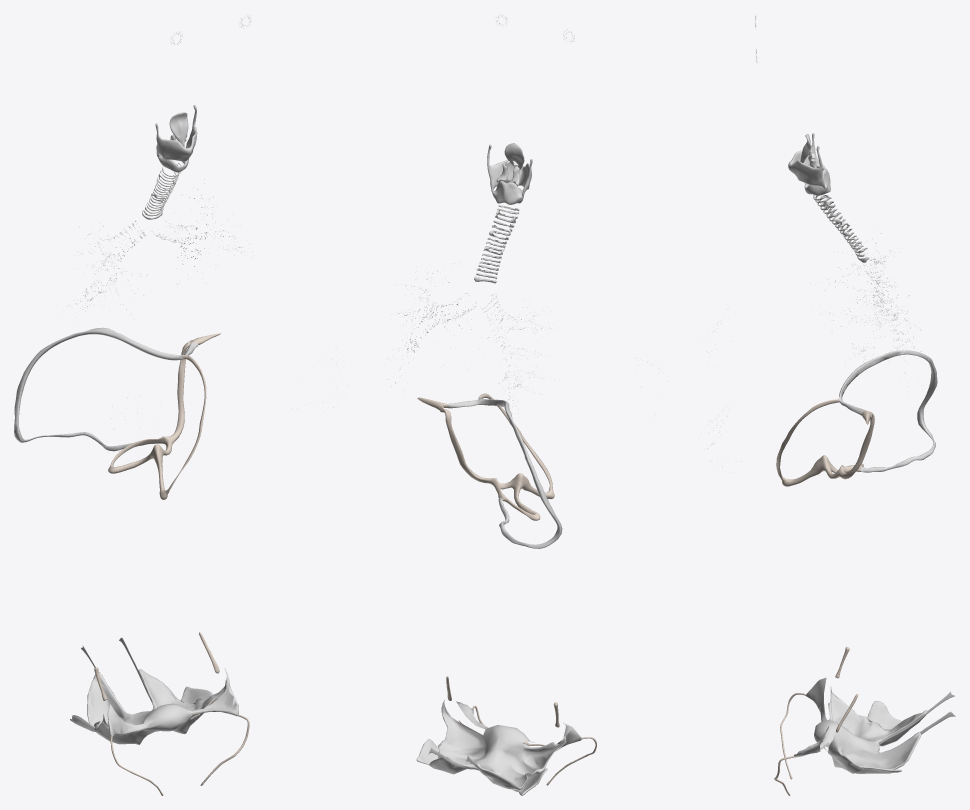
The model's file is joints.glb.
3 views of the same model, side by side, from view 1: azimuth 30°, elevation 25°; view 2: azimuth 150°, elevation 25°; view 3: azimuth 270°, elevation 25° (orthographic). The views are drawn at different scales.
Visible parts, largest first — view 1: HRA-VH_F_broad_ligament, HRA-VH_F_coronary_ligament_of_liver, HRA-VH_F_thyroid_cartilage, HRA-VH_F_tracheal_cartilage, HRA-VH_F_hepataduodenal_ligament, HRA-VH_F_ligamentum_venosum; view 2: HRA-VH_F_broad_ligament, HRA-VH_F_coronary_ligament_of_liver, HRA-VH_F_tracheal_cartilage, HRA-VH_F_thyroid_cartilage, HRA-VH_F_hepataduodenal_ligament, HRA-VH_F_ligamentum_venosum, HRA-VH_F_cricoid_cartilage; view 3: HRA-VH_F_broad_ligament, HRA-VH_F_coronary_ligament_of_liver, HRA-VH_F_thyroid_cartilage, HRA-VH_F_tracheal_cartilage, HRA-VH_F_right_cardinal_ligament_of_uterus, HRA-VH_F_ligamentum_venosum.
Boxes of the visible parts, left/top/right/bottom form: HRA-VH_F_broad_ligament: left=87, top=668, right=238, bottom=744; HRA-VH_F_coronary_ligament_of_liver: left=14, top=327, right=198, bottom=451; HRA-VH_F_thyroid_cartilage: left=155, top=105, right=197, bottom=161; HRA-VH_F_tracheal_cartilage: left=142, top=163, right=180, bottom=219; HRA-VH_F_hepataduodenal_ligament: left=108, top=436, right=172, bottom=473; HRA-VH_F_ligamentum_venosum: left=169, top=340, right=191, bottom=443; HRA-VH_F_broad_ligament: left=429, top=700, right=581, bottom=790; HRA-VH_F_coronary_ligament_of_liver: left=448, top=398, right=562, bottom=548; HRA-VH_F_tracheal_cartilage: left=474, top=205, right=519, bottom=283; HRA-VH_F_thyroid_cartilage: left=487, top=144, right=532, bottom=196; HRA-VH_F_hepataduodenal_ligament: left=490, top=478, right=540, bottom=520; HRA-VH_F_ligamentum_venosum: left=440, top=406, right=491, bottom=483; HRA-VH_F_cricoid_cartilage: left=492, top=180, right=523, bottom=204; HRA-VH_F_broad_ligament: left=794, top=677, right=927, bottom=773; HRA-VH_F_coronary_ligament_of_liver: left=839, top=350, right=937, bottom=472; HRA-VH_F_thyroid_cartilage: left=788, top=133, right=825, bottom=188; HRA-VH_F_tracheal_cartilage: left=813, top=195, right=868, bottom=262; HRA-VH_F_right_cardinal_ligament_of_uterus: left=867, top=701, right=901, bottom=729; HRA-VH_F_ligamentum_venosum: left=838, top=412, right=874, bottom=479.
Bounding box in the file's own units: 0.5813 × 1.71 × 0.523.
